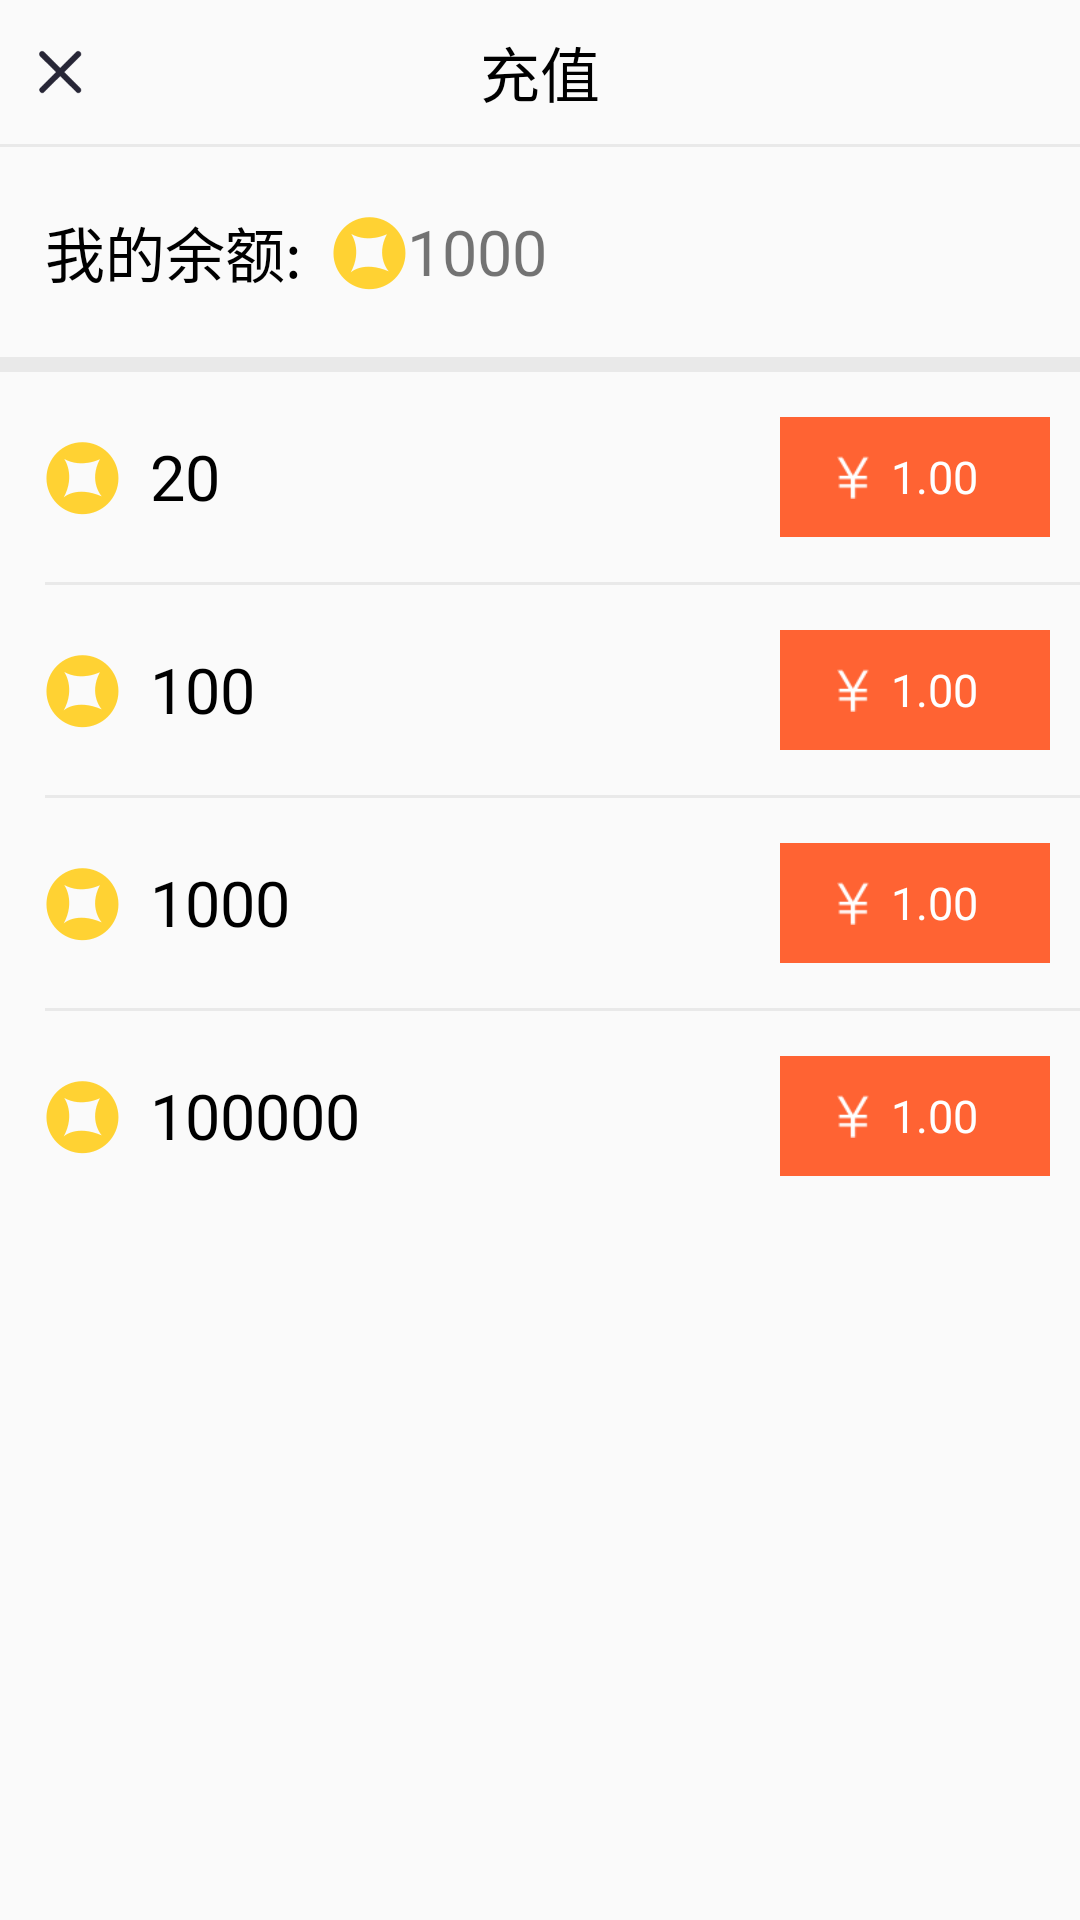

Screen size 1080*1920. Icon name, then its center in pixels as (x,y):
close: (60,72)
pay jb nrm: (369,253), (82,478), (82,691), (82,904), (82,1117)
pay rmb nrm: (853,477), (853,690), (853,903), (853,1116)
